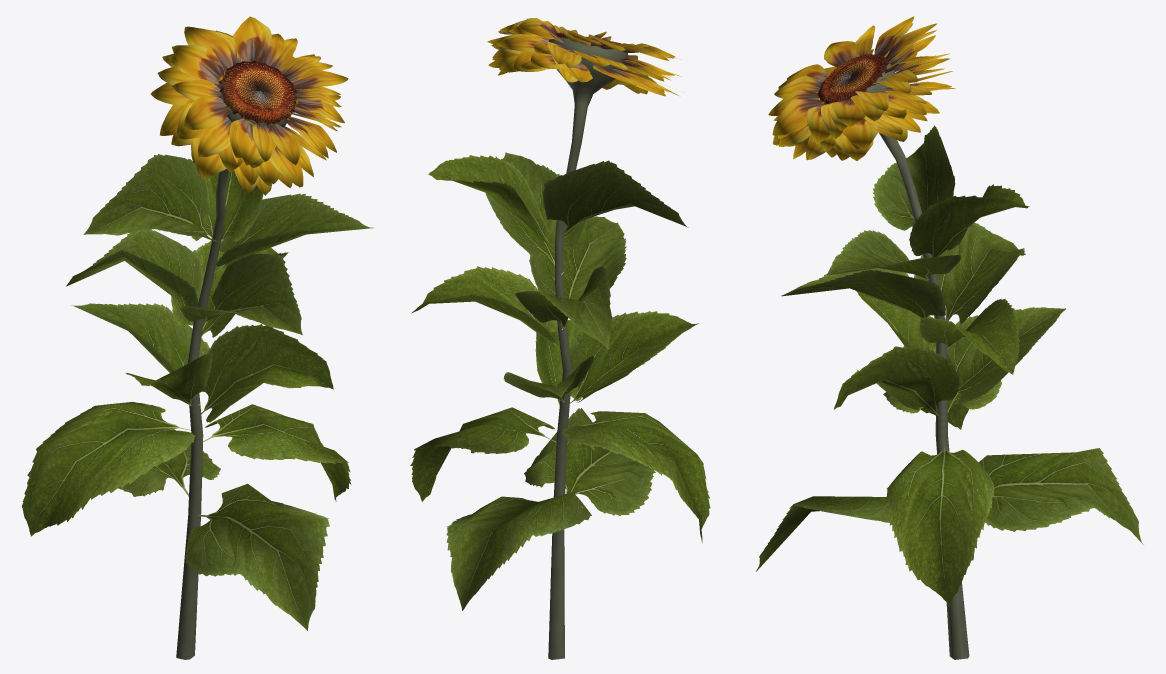
File: Helianthus_Annuus_Spring_Young.glb
3 views of the same model, side by side, from view 1: azimuth 30°, elevation 25°; view 2: azimuth 150°, elevation 25°; view 3: azimuth 270°, elevation 25° (orthographic). The views are drawn at different scales.
Visible parts, largest first — view 1: Helianthus_Annuus_Spring_Young__LOD3; view 2: Helianthus_Annuus_Spring_Young__LOD3; view 3: Helianthus_Annuus_Spring_Young__LOD3.
Part boxes in pixels (x1,y1,x2,y2): Helianthus_Annuus_Spring_Young__LOD3: [22, 16, 373, 659]; Helianthus_Annuus_Spring_Young__LOD3: [410, 18, 710, 659]; Helianthus_Annuus_Spring_Young__LOD3: [756, 16, 1143, 659].
Size of the model in its own units: 0.6305 by 1.22 by 0.7131.
3 materials, 3 textured.
